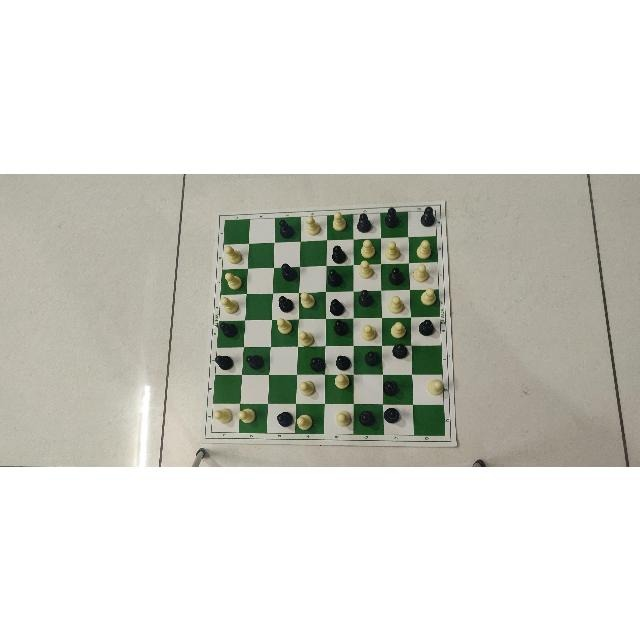black-pawn: (384, 206, 404, 227), (213, 352, 235, 370), (420, 205, 437, 227), (331, 240, 347, 263), (387, 344, 415, 357), (219, 319, 239, 337), (280, 261, 298, 281), (277, 219, 297, 237), (276, 294, 296, 312), (328, 298, 348, 316), (356, 288, 376, 306), (330, 319, 352, 335), (246, 353, 265, 371), (382, 405, 402, 422), (381, 379, 400, 396), (389, 265, 406, 284), (356, 213, 373, 232), (364, 349, 384, 365), (335, 353, 352, 371), (419, 318, 437, 335), (327, 266, 343, 285), (309, 354, 326, 371), (275, 410, 293, 426), (359, 409, 373, 427)
white-pawn: (385, 294, 408, 312), (236, 405, 257, 423), (303, 215, 321, 235), (213, 406, 233, 424), (385, 240, 403, 260), (331, 372, 353, 388), (224, 244, 242, 263), (221, 294, 239, 313), (411, 264, 430, 282), (389, 321, 409, 338), (360, 238, 377, 258), (297, 378, 317, 395), (224, 270, 242, 288), (428, 376, 444, 396), (361, 320, 377, 340), (331, 211, 347, 231), (296, 412, 313, 430), (420, 286, 437, 304), (299, 291, 316, 308), (275, 317, 293, 333), (334, 411, 351, 427), (416, 240, 431, 258), (358, 259, 373, 277), (298, 330, 317, 344)
